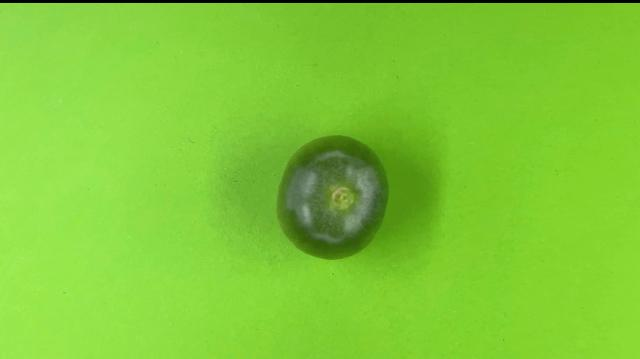Fruit Maturation: (272, 132, 392, 264)
